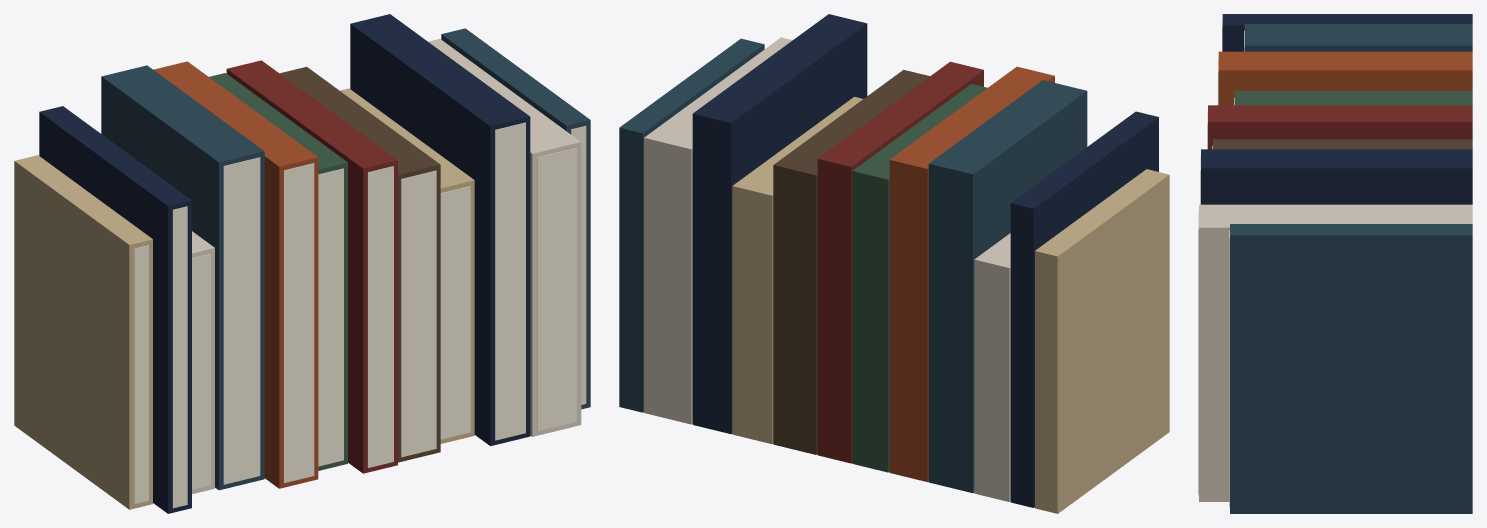
File: SAB-BKR-std.glb
3 views of the same model, side by side, from view 1: azimuth 30°, elevation 25°; view 2: azimuth 150°, elevation 25°; view 3: azimuth 270°, elevation 25° (orthographic). The views are drawn at different scales.
Visible parts, largest first — view 1: SAB-BKR-std; view 2: SAB-BKR-std; view 3: SAB-BKR-std.
Part boxes in pixels (left/top/right/bottom): SAB-BKR-std: left=14, top=14, right=590, bottom=513; SAB-BKR-std: left=619, top=14, right=1169, bottom=513; SAB-BKR-std: left=1198, top=14, right=1472, bottom=513.
Size of the model in its own units: 0.4 by 0.2779 by 0.2173.
